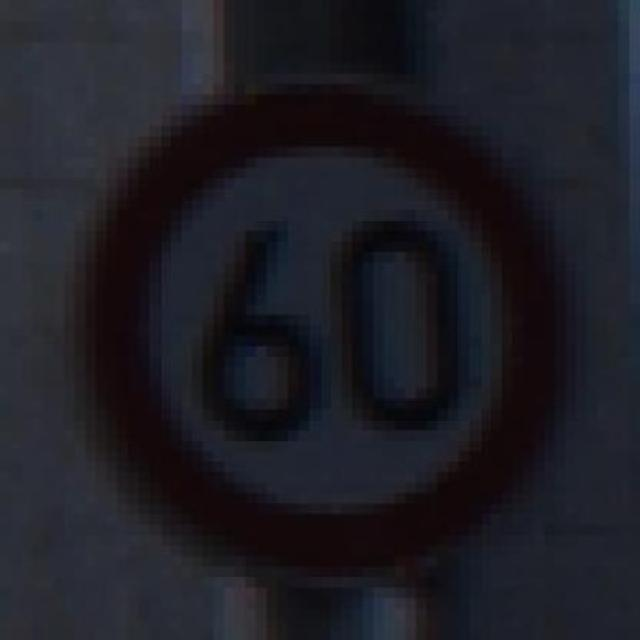forb_speed_over_60: (104, 94, 541, 563)
